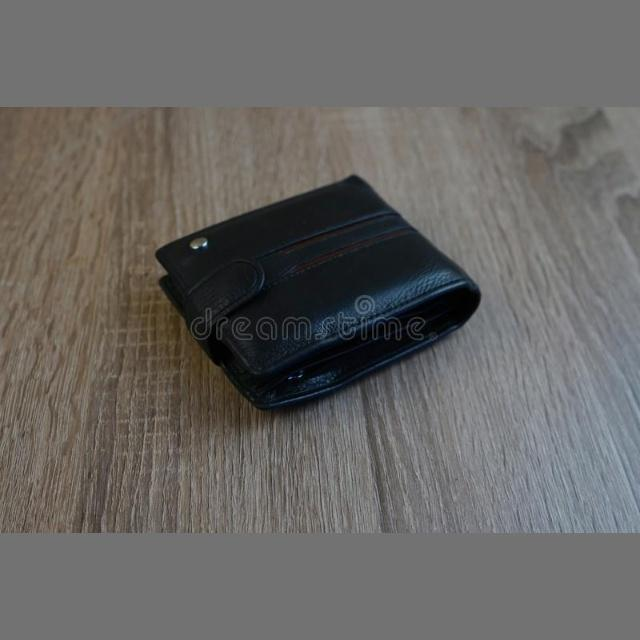Wallet: (141, 160, 515, 424)
